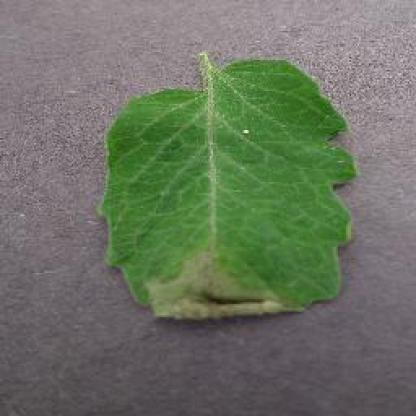bad leaf: (84, 58, 357, 323)
